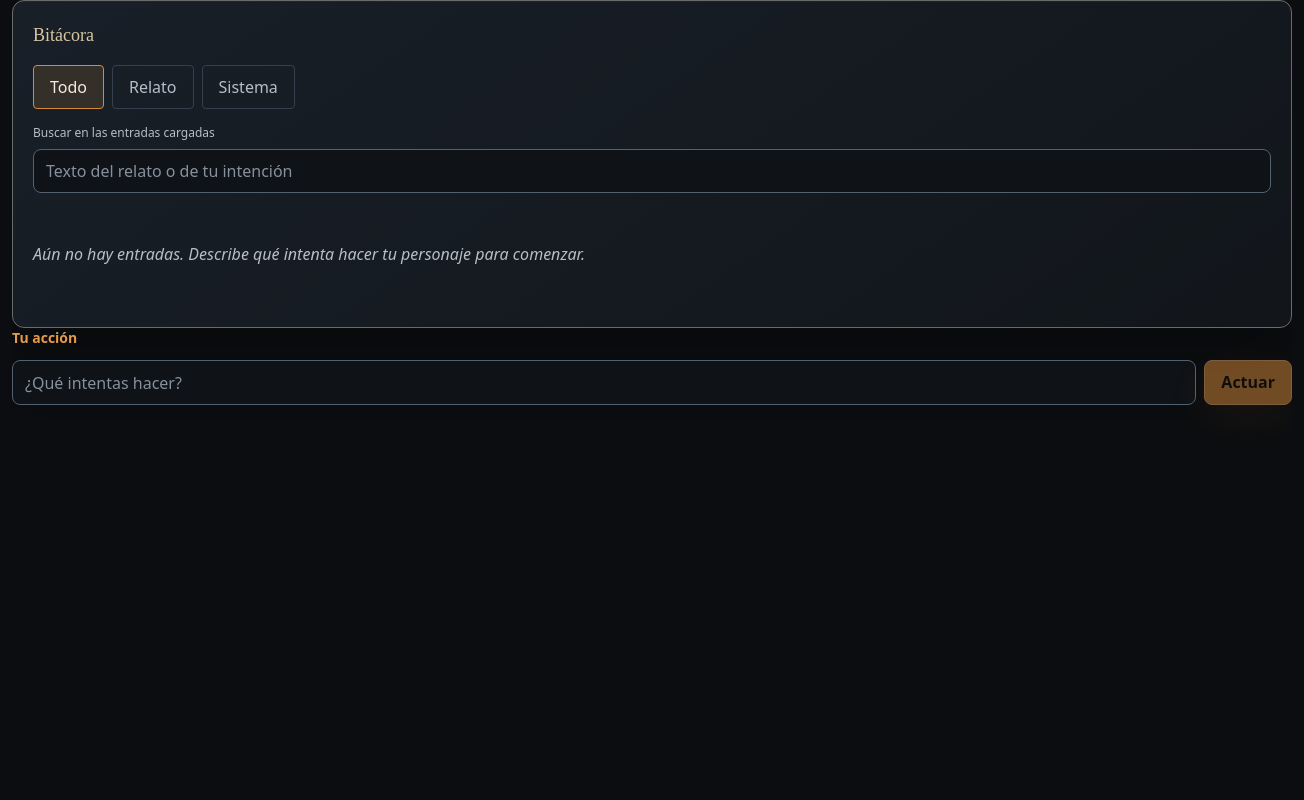
Test: campaign story through the real action stream › does not present the zero sentinel for an unrolled consequence as a natural die
Type "Lanzo un conjuro" into the field labelled "Tu acción" at (604, 383), box [12,360,1196,405]
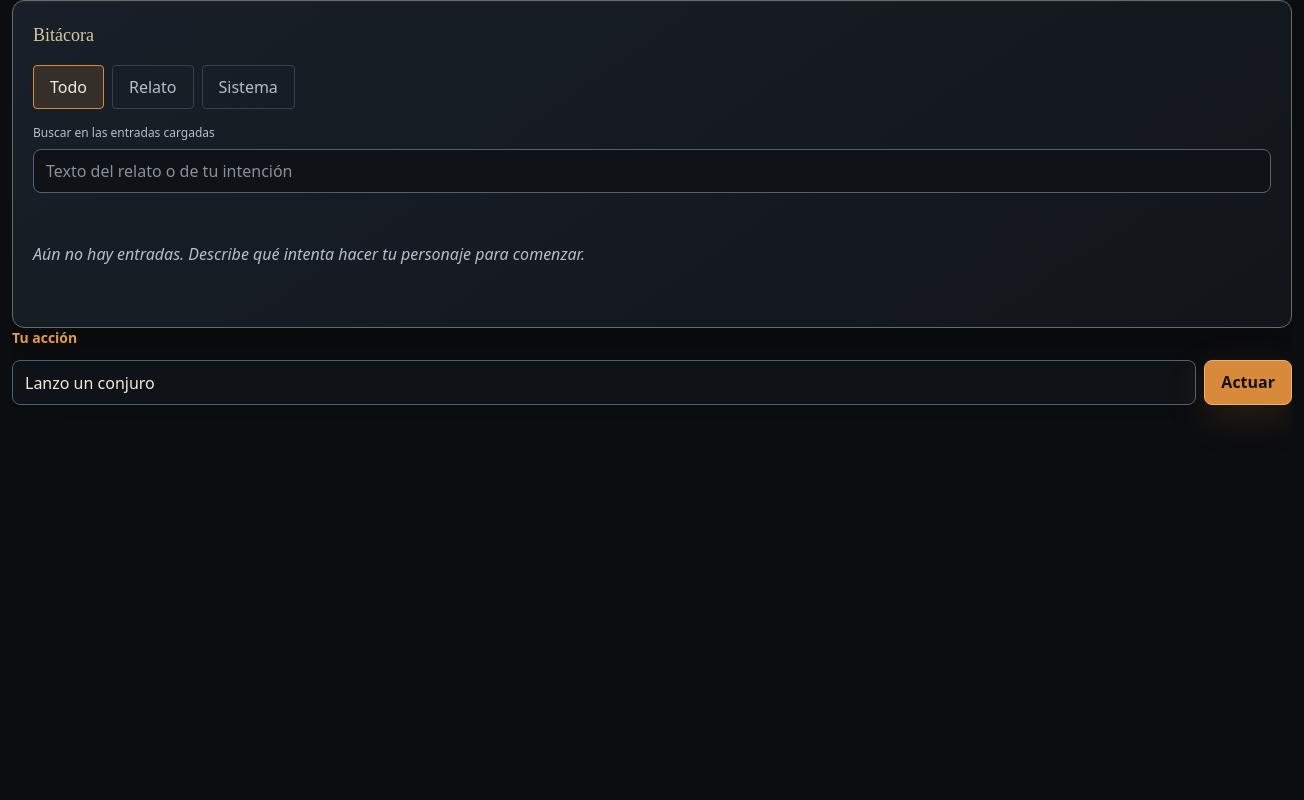
Click the button "Actuar" at (1248, 383), box [1204,360,1292,405]
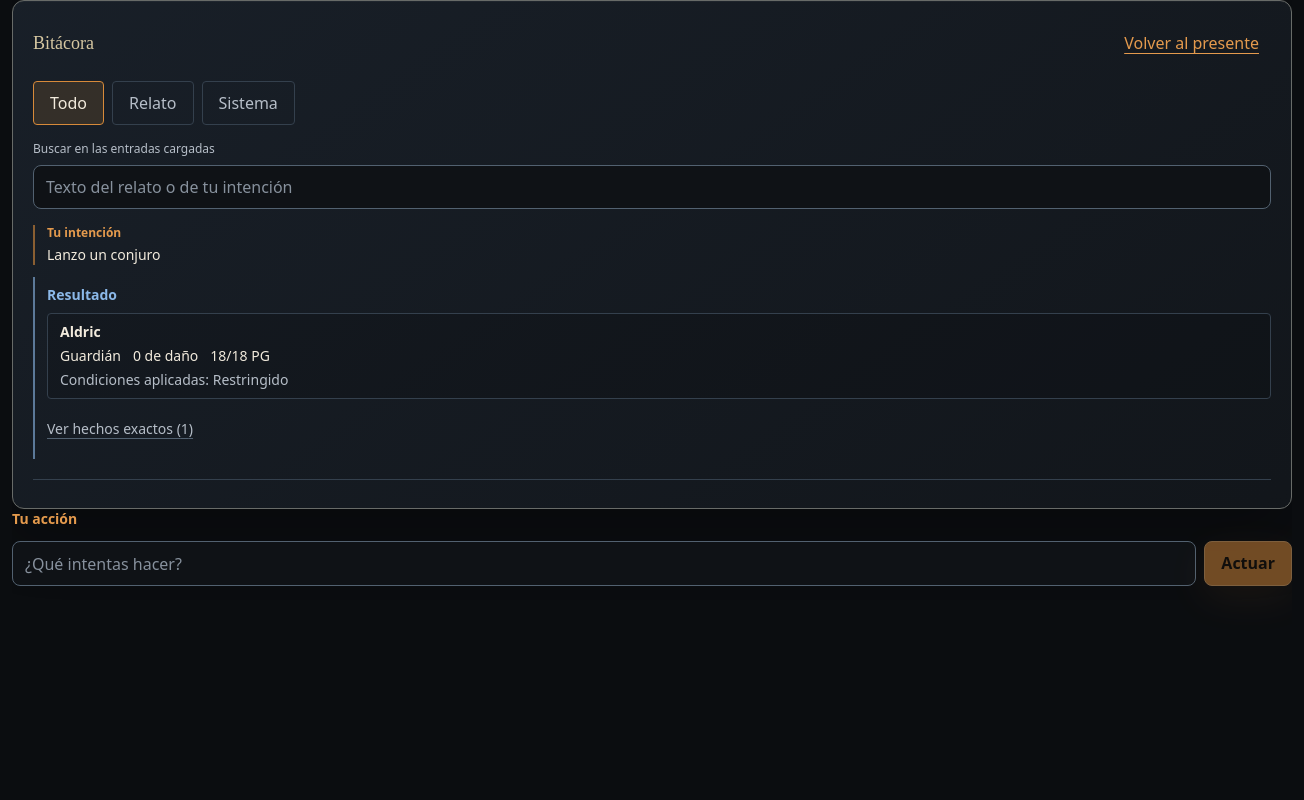
Check: the element named "Resultado de la acción" shows "18/18 PG", box [33,277,1271,459]
